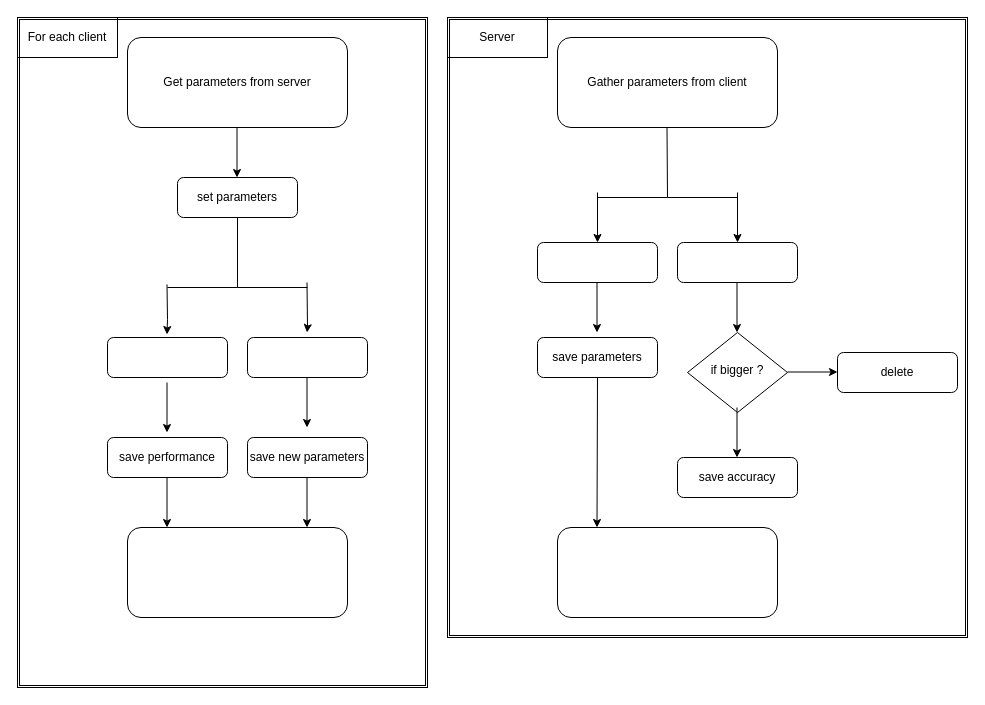
The diagram is 985 pixels wide and 705 high, and some of its shapes have lost their labels. Here are the shapes that lost their labels. From the top down, the box of each, then its label:
(536, 242, 658, 282): aggregate
(676, 242, 798, 282): compute average accuracy
(106, 336, 228, 378): predict results
(246, 336, 368, 378): train model
(126, 526, 348, 618): return parameters to server
(556, 526, 778, 618): dispatch parameters to client
